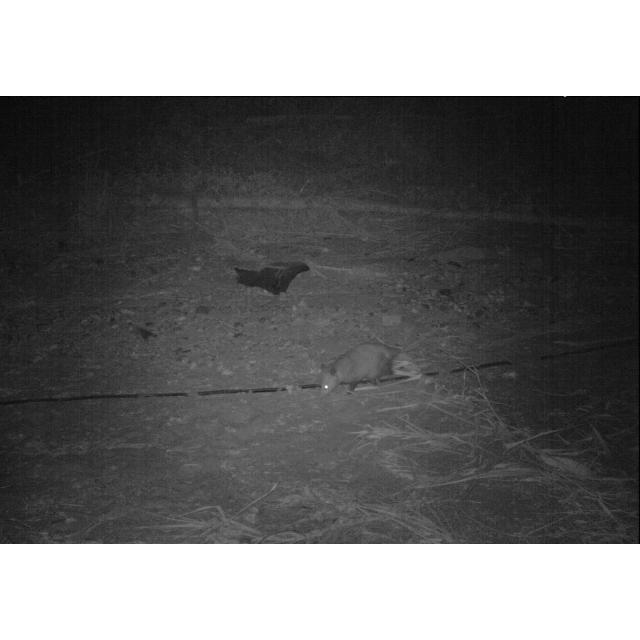animals: (318, 340, 402, 394)
